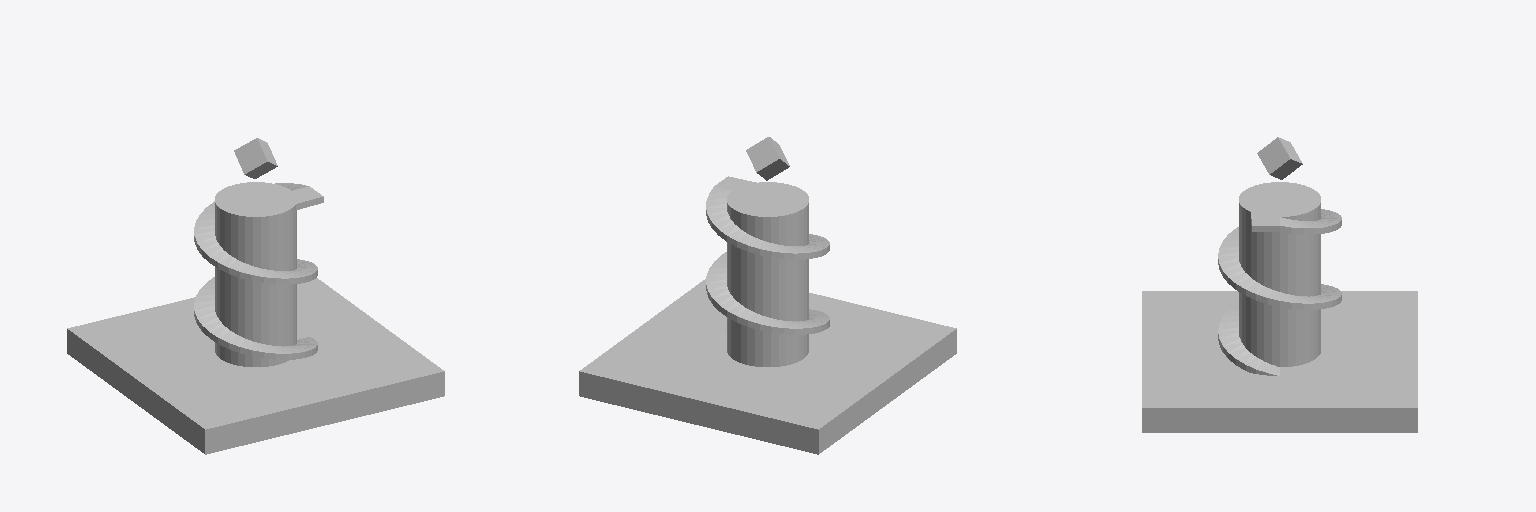
File: spin.obj
The picture shows the model from 3 angles: view 1: azimuth 30°, elevation 25°; view 2: azimuth 150°, elevation 25°; view 3: azimuth 270°, elevation 25°; orthographic projection.
Visible parts, largest first — view 1: Cube.013, Cylinder.001, Cube.014; view 2: Cube.013, Cylinder.001, Cube.014; view 3: Cube.013, Cylinder.001, Cube.014.
Boxes of the visible parts, x1,y1,x2,y2 form: Cube.013: [67, 278, 444, 454]; Cylinder.001: [194, 182, 323, 366]; Cube.014: [234, 138, 277, 178]; Cube.013: [579, 279, 956, 454]; Cylinder.001: [706, 176, 829, 366]; Cube.014: [746, 137, 789, 180]; Cube.013: [1142, 291, 1417, 432]; Cylinder.001: [1218, 182, 1341, 375]; Cube.014: [1257, 137, 1302, 179].
Bounding box in the file's own units: 30 × 28.48 × 30.